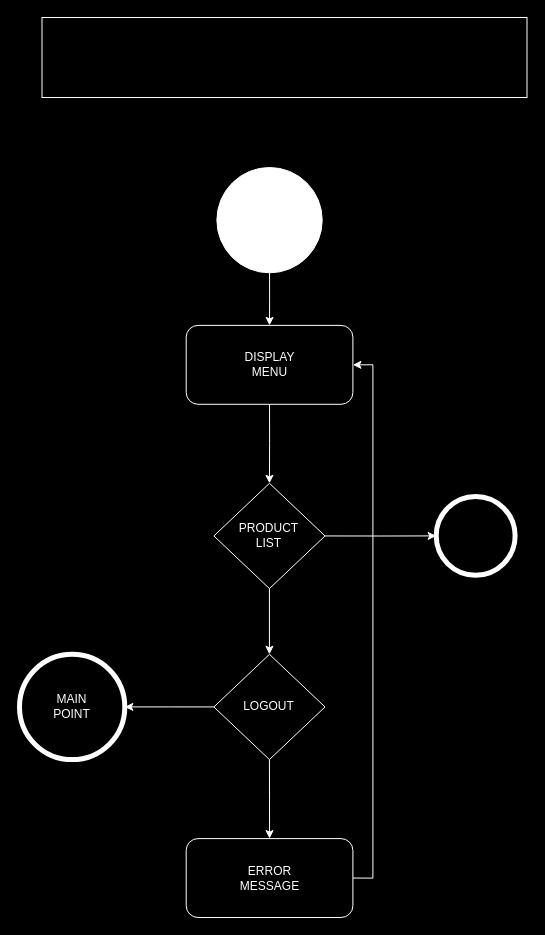
Some shapes in this 545 by 935 pixel diagram are drawn without their labels. Here are the shapes that lost their labels. From the top down, the centre of each, then its label:
At pixel 284 57: "ADMIN DASHBOARD ENTRY POINT".
At pixel 269 219: "ADMIN".
